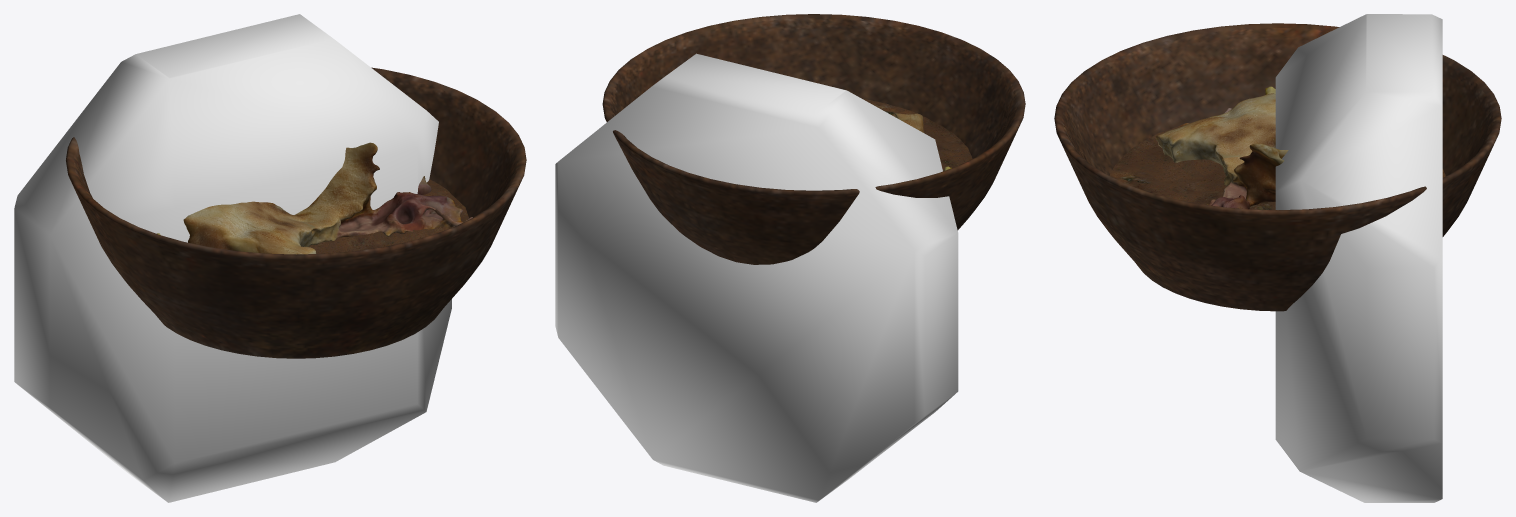
File: SM_SoupLeftovers_Food.fbx
The picture shows the model from 3 angles, left to right: view 1: azimuth 30°, elevation 25°; view 2: azimuth 150°, elevation 25°; view 3: azimuth 270°, elevation 25°; orthographic projection. The views are drawn at different scales.
Visible parts, largest first — view 1: SM_SoupLeftovers_Food_ConvexHulls, SM_SoupLeftovers_Food; view 2: SM_SoupLeftovers_Food_ConvexHulls, SM_SoupLeftovers_Food; view 3: SM_SoupLeftovers_Food_ConvexHulls, SM_SoupLeftovers_Food.
Part boxes in pixels (x1=…): SM_SoupLeftovers_Food_ConvexHulls: x1=14, y1=14, x2=451, y2=502; SM_SoupLeftovers_Food: x1=66, y1=67, x2=526, y2=358; SM_SoupLeftovers_Food_ConvexHulls: x1=555, y1=53, x2=958, y2=502; SM_SoupLeftovers_Food: x1=602, y1=14, x2=1025, y2=264; SM_SoupLeftovers_Food_ConvexHulls: x1=1275, y1=14, x2=1442, y2=502; SM_SoupLeftovers_Food: x1=1054, y1=23, x2=1501, y2=311.
Size of the model in its own units: 0.2766 by 0.2777 by 0.2738.
